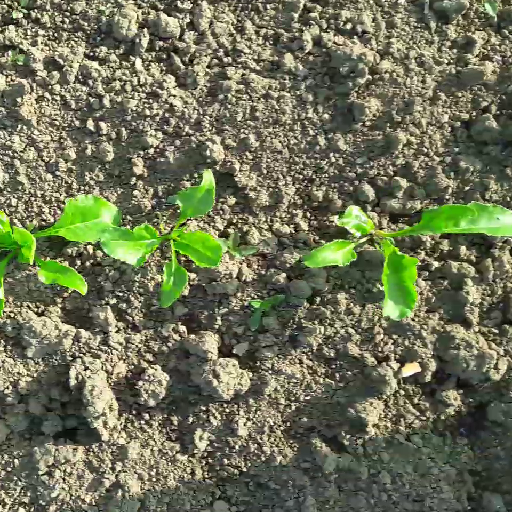sugarbeet: (298, 201, 512, 323), (95, 167, 220, 311), (1, 185, 122, 316)
weed: (247, 294, 287, 334), (215, 229, 261, 260), (9, 1, 31, 20), (7, 48, 27, 67), (483, 1, 500, 20)
